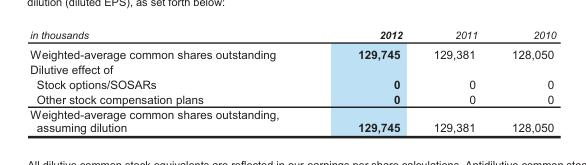table: (29, 28, 555, 133)
table column: (29, 28, 317, 133), (317, 28, 417, 133), (417, 28, 494, 133), (494, 28, 555, 133)
table column header: (29, 28, 555, 44)
table projected row header: (29, 61, 555, 76)
table row: (29, 106, 555, 133), (29, 44, 555, 61), (29, 28, 555, 44), (29, 61, 555, 76), (29, 76, 555, 91), (29, 91, 555, 106)
